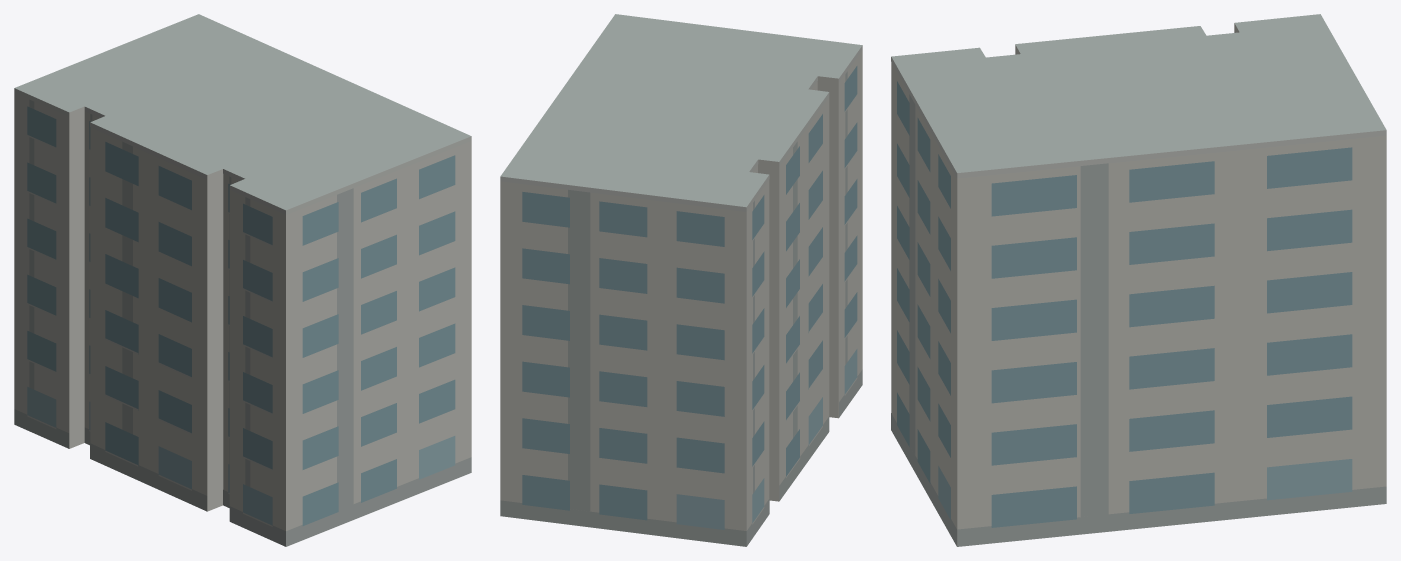
File: survey-upis-32810652.glb
The picture shows the model from 3 angles, left to right: view 1: azimuth 30°, elevation 25°; view 2: azimuth 150°, elevation 25°; view 3: azimuth 270°, elevation 25°; orthographic projection. The views are drawn at different scales.
Parts seen in each view (by area): view 1: survey-upis-32810652.tmp; view 2: survey-upis-32810652.tmp; view 3: survey-upis-32810652.tmp.
Part boxes in pixels (<box>): survey-upis-32810652.tmp: <box>14,14,471,546</box>; survey-upis-32810652.tmp: <box>500,14,862,546</box>; survey-upis-32810652.tmp: <box>891,14,1386,546</box>.
Size of the model in its own units: 15.76 by 17.25 by 20.74.
